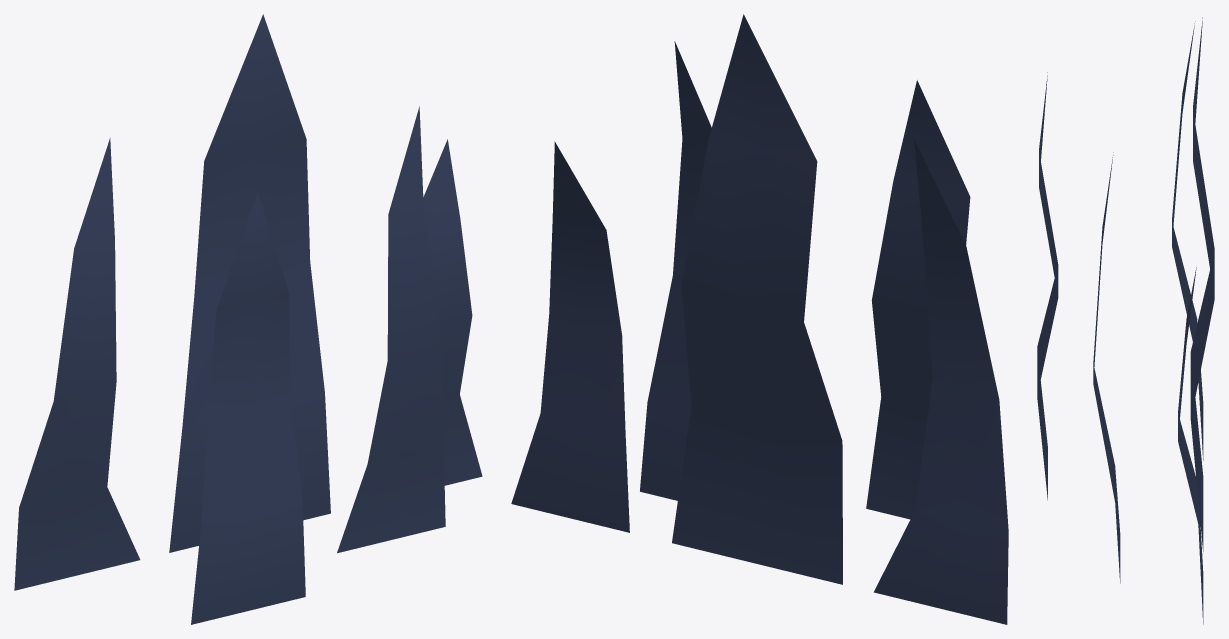
File: grass.fbx
3 renders of one model, left to right at view 1: azimuth 30°, elevation 25°; view 2: azimuth 150°, elevation 25°; view 3: azimuth 270°, elevation 25°, orthographic. The views are drawn at different scales.
Visible parts, largest first — view 1: grass; view 2: grass; view 3: grass.
Part boxes in pixels (<box>): grass: <box>14,14,482,624</box>; grass: <box>511,14,1008,624</box>; grass: <box>1037,17,1214,624</box>.
Size of the model in its own units: 0.9494 by 1 by 0.3182.
